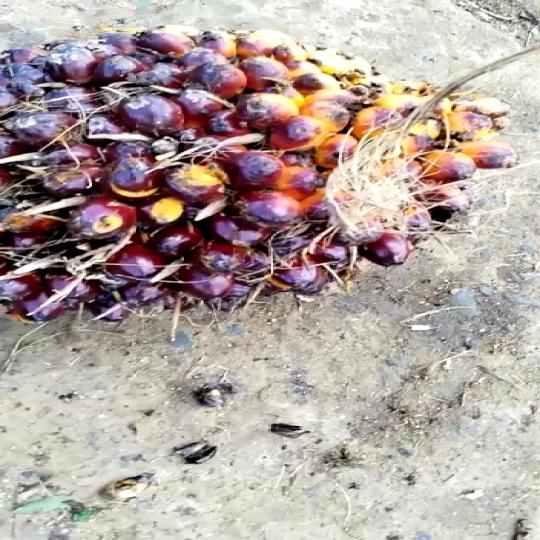kurang masak: (0, 30, 531, 322)
